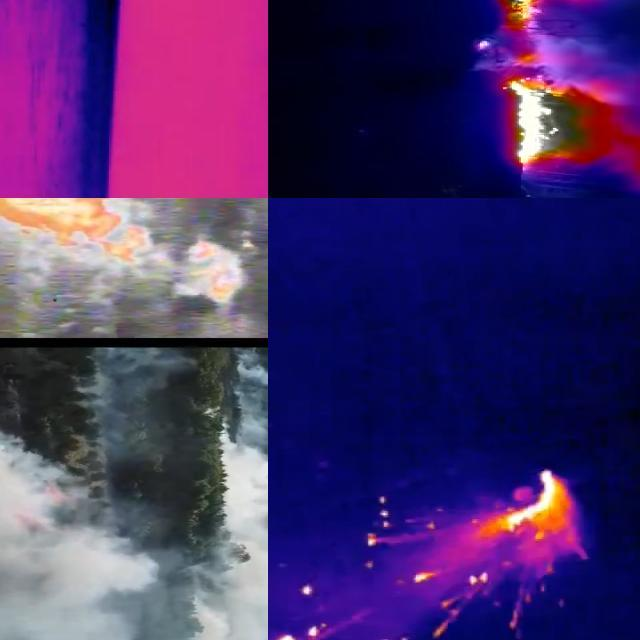fire: (499, 39, 630, 175), (469, 469, 587, 569), (1, 199, 153, 264), (185, 239, 250, 303)
